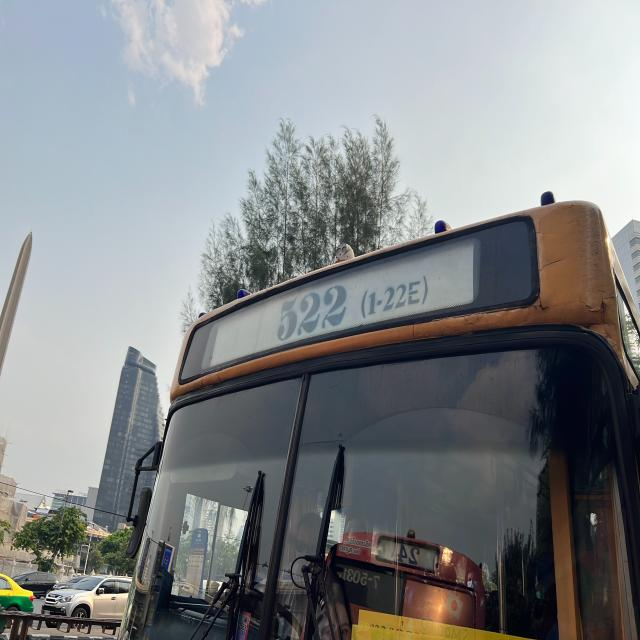BMTA-bus: (118, 171, 640, 640)
Bus-Line-Number: (264, 250, 437, 350)
